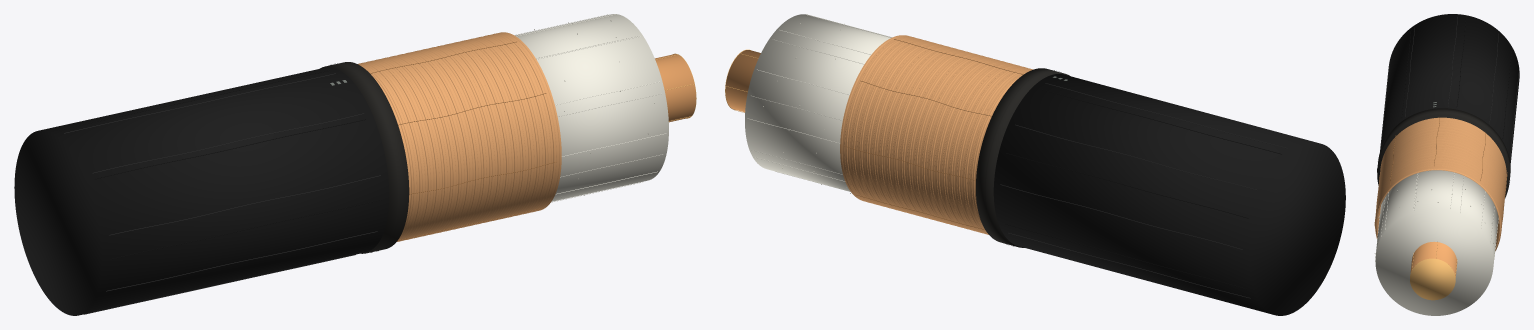
Rendered from rf-hca158-macro.glb.
3 renders of one model, left to right at view 1: azimuth 30°, elevation 25°; view 2: azimuth 150°, elevation 25°; view 3: azimuth 270°, elevation 25°, orthographic. The views are drawn at different scales.
Visible parts, largest first — view 1: macro hardline jacket body, annular corrugated solid shield, macro foam dielectric exposed core, hardline jacket cut wall, polished solid center conductor; view 2: macro hardline jacket body, annular corrugated solid shield, macro foam dielectric exposed core, hardline jacket cut wall, polished solid center conductor; view 3: macro hardline jacket body, macro foam dielectric exposed core, annular corrugated solid shield, hardline jacket cut wall, polished conductor cut face glow, polished solid center conductor, rounded jacket cut lip.
Part boxes in pixels (x1,y1,x2,y2): macro hardline jacket body: (14,67,389,315); annular corrugated solid shield: (358,32,561,241); macro foam dielectric exposed core: (515,14,668,201); hardline jacket cut wall: (320,62,409,253); polished solid center conductor: (655,54,695,122); macro hardline jacket body: (993,74,1345,315); annular corrugated solid shield: (840,35,1033,234); macro foam dielectric exposed core: (745,14,890,191); hardline jacket cut wall: (976,68,1069,247); polished solid center conductor: (725,50,760,112); macro hardline jacket body: (1380,14,1519,165); macro foam dielectric exposed core: (1375,170,1498,315); annular corrugated solid shield: (1375,117,1506,251); hardline jacket cut wall: (1377,108,1510,198); polished conductor cut face glow: (1410,258,1455,300); polished solid center conductor: (1410,241,1457,276); rounded jacket cut lip: (1377,110,1510,172).
Size of the model in its own units: 33.65 by 9.16 by 9.96.
